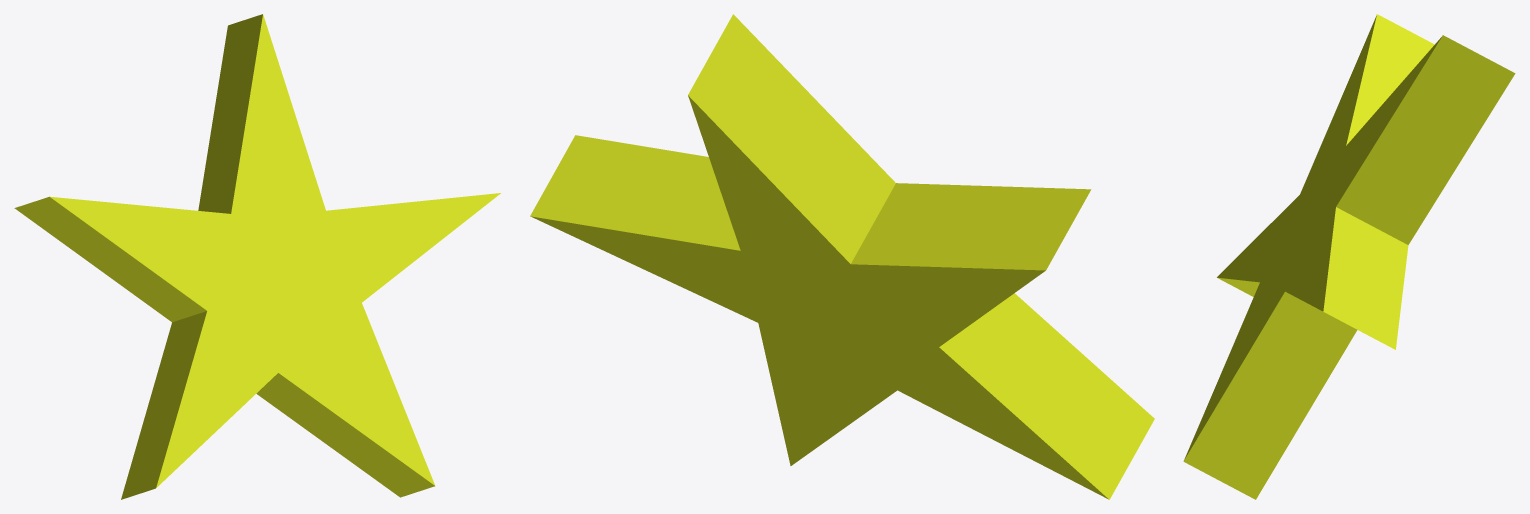
File: star.gltf
The picture shows the model from 3 angles, left to right: view 1: azimuth 30°, elevation 25°; view 2: azimuth 150°, elevation 25°; view 3: azimuth 270°, elevation 25°; orthographic projection. The views are drawn at different scales.
Visible parts, largest first — view 1: Circle; view 2: Circle; view 3: Circle.
Boxes of the visible parts, x1,y1,x2,y2 form: Circle: (14, 14, 500, 499); Circle: (530, 14, 1154, 499); Circle: (1183, 14, 1515, 499).
Size of the model in its own units: 6.14 by 5.9 by 4.02.
